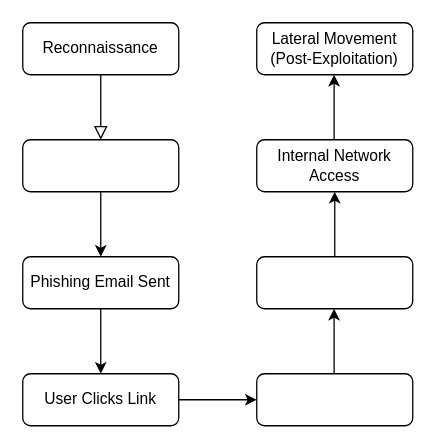
Image size: 435x448. Some labels were removed from this diagram. Here are the shapes that lost their labels. From the top down, the centre of each, then its label:
At pixel 100 165: "Email Enumeration".
At pixel 334 282: "VPN Portal Access".
At pixel 334 399: "Credential Harvesting".
